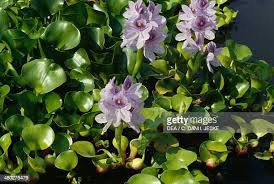water_hyacinth: (0, 0, 273, 183)
